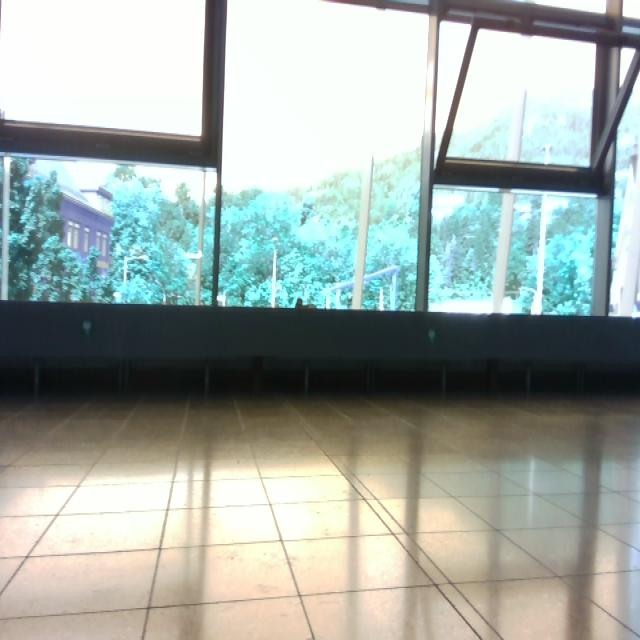door: (1, 1, 640, 638)
light bulb: (184, 249, 204, 260), (83, 320, 92, 334), (272, 237, 279, 244)
pillar: (492, 89, 527, 313), (351, 154, 374, 309)
staircase: (321, 265, 400, 310)
tiled floor: (1, 391, 639, 639)
window: (1, 1, 640, 318)
